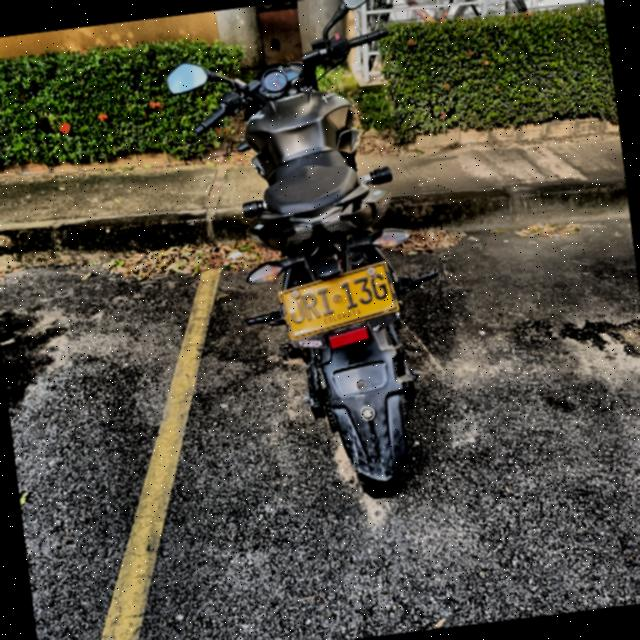0: (284, 294, 307, 326)
1: (336, 280, 359, 310)
3: (351, 274, 375, 307)
G: (367, 269, 391, 303)
I: (315, 286, 336, 318)
R: (299, 290, 322, 326)
